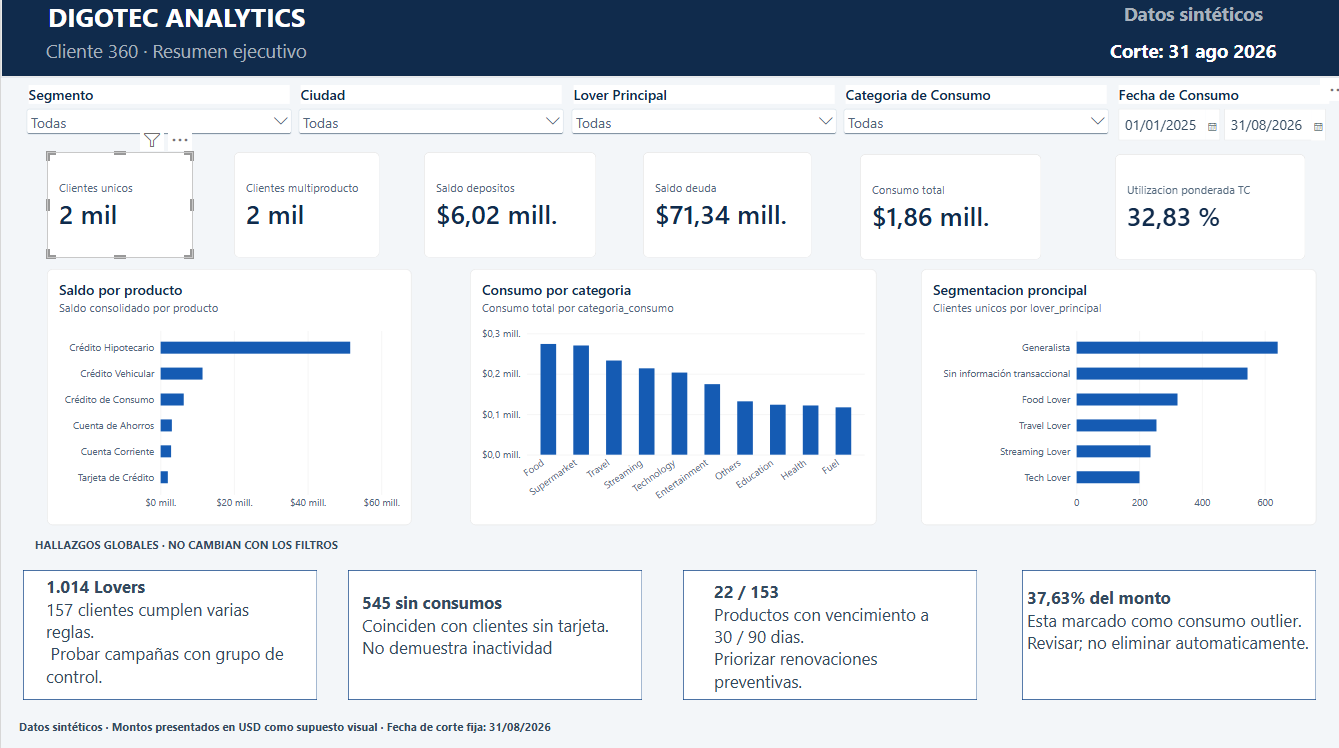

The page's visual inventory and layout, read from the dashboard file:
{"tool":"powerbi","page":{"name":"Resumen Ejecutivo","canvas":[1920,1080],"ordinal":0},"visuals":[{"type":"shape","box":[0,0,1920.6,111.7],"z":0},{"type":"textbox","box":[8.2,0,484.7,67.2],"z":1000},{"type":"textbox","box":[49.3,55.8,403.4,56.3],"z":2000},{"type":"textbox","box":[1501.2,3.3,403.4,56.3],"z":3000},{"type":"textbox","box":[1527.5,55.8,351.8,67.2],"z":4000},{"type":"slicer","fields":{"Values":["DimClientes.segmento_cliente"]},"box":[31.2,123.2,389.3,95.3],"z":5000},{"type":"slicer","fields":{"Values":["DimClientes.ciudad"]},"box":[420.5,123.2,389.3,95.3],"z":6000},{"type":"slicer","fields":{"Values":["DimClientes.lover_principal"]},"box":[809.7,123.2,389.3,98.5],"z":7000},{"type":"slicer","fields":{"Values":["FactConsumos.categoria_consumo"]},"box":[1199,123.2,389.3,150],"z":8000},{"type":"slicer","fields":{"Values":["DimFecha.Fecha"]},"box":[1588.2,123.2,317,149.5],"z":9000},{"type":"cardVisual","fields":{"Data":["Medidas.Clientes unicos"]},"box":[65.7,218.4,208.6,151.1],"z":9001},{"type":"cardVisual","fields":{"Data":["Medidas.Clientes multiproducto"]},"box":[333.4,218.4,208.6,151.1],"z":9002},{"type":"cardVisual","fields":{"Data":["Medidas.Saldo depositos"]},"box":[604.4,218.4,246.4,151.1],"z":9003},{"type":"cardVisual","fields":{"Data":["Medidas.Saldo deuda"]},"box":[916.5,218.4,241.4,151.1],"z":9004},{"type":"cardVisual","fields":{"Data":["Medidas.Consumo total"]},"box":[1226.9,221.7,259.5,151.1],"z":9005},{"type":"cardVisual","fields":{"Data":["Medidas.Utilizacion ponderada TC"]},"box":[1591.5,221.7,272.6,151.1],"z":9006},{"type":"clusteredBarChart","title":"Saldo por producto","fields":{"Category":["FactProductos.producto"],"Y":["Medidas.Saldo consolidado"]},"box":[65.7,386,520.7,366.3],"z":9007},{"type":"clusteredColumnChart","title":"Consumo por categoria","fields":{"Category":["FactConsumos.categoria_consumo"],"Y":["Medidas.Consumo total"]},"box":[670.1,386,581.4,366.3],"z":9008},{"type":"clusteredBarChart","title":"Segmentacion proncipal","fields":{"Category":["DimClientes.lover_principal"],"Y":["Medidas.Clientes unicos"]},"box":[1313.9,386,565,366.3],"z":9009},{"type":"shape","box":[31.2,816.3,420.5,185.6],"z":9010},{"type":"shape","box":[496,816.3,420.5,185.6],"z":9011},{"type":"shape","box":[974,816.3,420.5,185.6],"z":9012},{"type":"shape","box":[1458.5,816.3,420.5,185.6],"z":9013},{"type":"textbox","box":[64.1,822.9,354.8,174.1],"z":9015},{"type":"textbox","box":[515.7,845.9,381,126.5],"z":9016},{"type":"textbox","box":[1018.3,829.4,331.8,161],"z":9017},{"type":"textbox","box":[1465,839.3,405.7,141.2],"z":9018},{"type":"textbox","box":[49.3,768.7,657,70.6],"z":9019},{"type":"textbox","box":[26.3,1028.2,824.5,52.6],"z":9020}]}

Visuals, with their boxes in screenshot pixels (x1, y1, x2, y2), scaled from the page's 1920x1080 canvas onto the 1339x748 screenshot:
shape: Rect(0, 0, 1338, 77)
textbox: Rect(6, 0, 344, 47)
textbox: Rect(34, 39, 316, 78)
textbox: Rect(1047, 2, 1328, 41)
textbox: Rect(1065, 39, 1311, 85)
slicer - DimClientes.segmento_cliente: Rect(22, 85, 293, 151)
slicer - DimClientes.ciudad: Rect(293, 85, 565, 151)
slicer - DimClientes.lover_principal: Rect(565, 85, 836, 154)
slicer - FactConsumos.categoria_consumo: Rect(836, 85, 1108, 189)
slicer - DimFecha.Fecha: Rect(1108, 85, 1329, 189)
cardVisual - Medidas.Clientes unicos: Rect(46, 151, 191, 256)
cardVisual - Medidas.Clientes multiproducto: Rect(233, 151, 378, 256)
cardVisual - Medidas.Saldo depositos: Rect(422, 151, 593, 256)
cardVisual - Medidas.Saldo deuda: Rect(639, 151, 808, 256)
cardVisual - Medidas.Consumo total: Rect(856, 154, 1037, 258)
cardVisual - Medidas.Utilizacion ponderada TC: Rect(1110, 154, 1300, 258)
"Saldo por producto" clusteredBarChart: Rect(46, 267, 409, 521)
"Consumo por categoria" clusteredColumnChart: Rect(467, 267, 873, 521)
"Segmentacion proncipal" clusteredBarChart: Rect(916, 267, 1310, 521)
shape: Rect(22, 565, 315, 694)
shape: Rect(346, 565, 639, 694)
shape: Rect(679, 565, 973, 694)
shape: Rect(1017, 565, 1310, 694)
textbox: Rect(45, 570, 292, 691)
textbox: Rect(360, 586, 625, 673)
textbox: Rect(710, 574, 942, 686)
textbox: Rect(1022, 581, 1305, 679)
textbox: Rect(34, 532, 493, 581)
textbox: Rect(18, 712, 593, 747)
